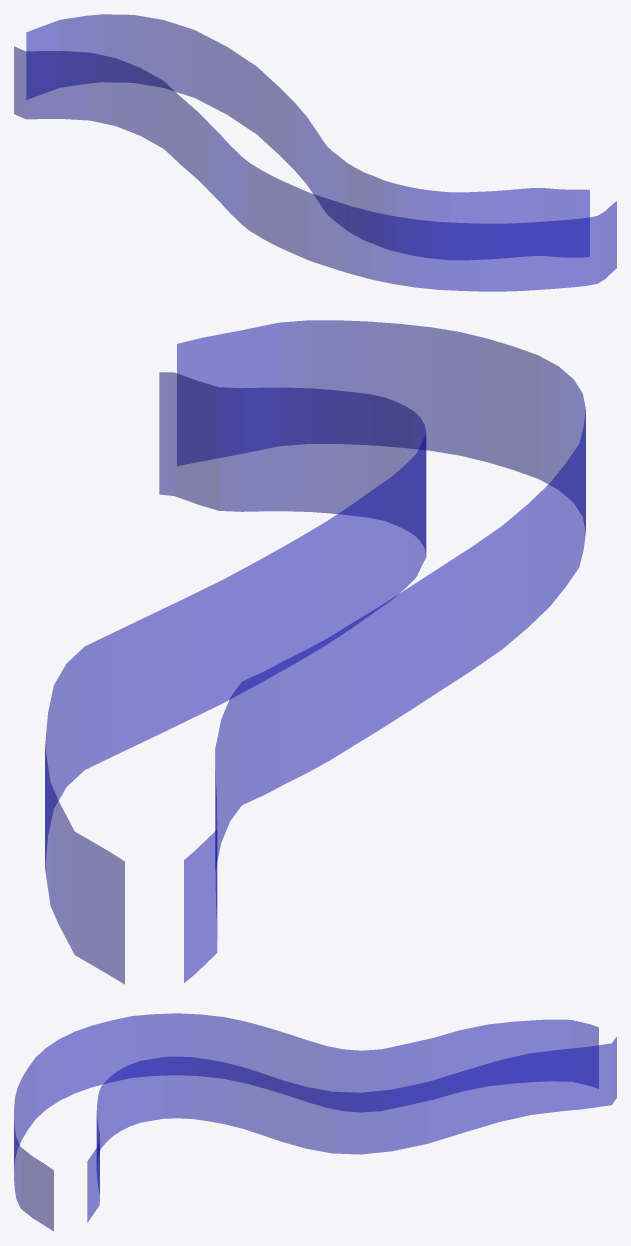
File: track_military_coll_wall_40.fbx
3 views of the same model, one above another, from view 1: azimuth 30°, elevation 25°; view 2: azimuth 150°, elevation 25°; view 3: azimuth 270°, elevation 25° (orthographic). The views are drawn at different scales.
Visible parts, largest first — view 1: track_military_coll_wall_40; view 2: track_military_coll_wall_40; view 3: track_military_coll_wall_40.
Part boxes in pixels (<box>): track_military_coll_wall_40: <box>14,14,616,291</box>; track_military_coll_wall_40: <box>45,320,585,984</box>; track_military_coll_wall_40: <box>14,1013,616,1231</box>.
Size of the model in its own units: 191 by 64.3 by 357.
